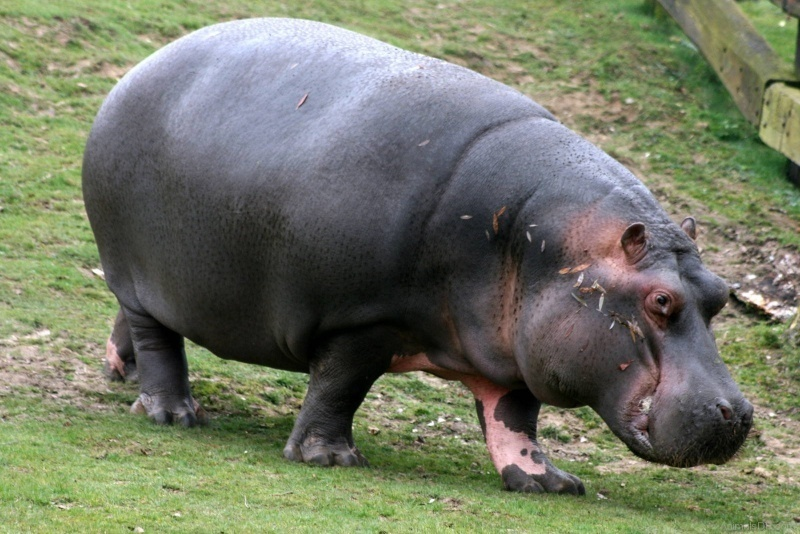hipopotamo: (79, 12, 769, 500)
